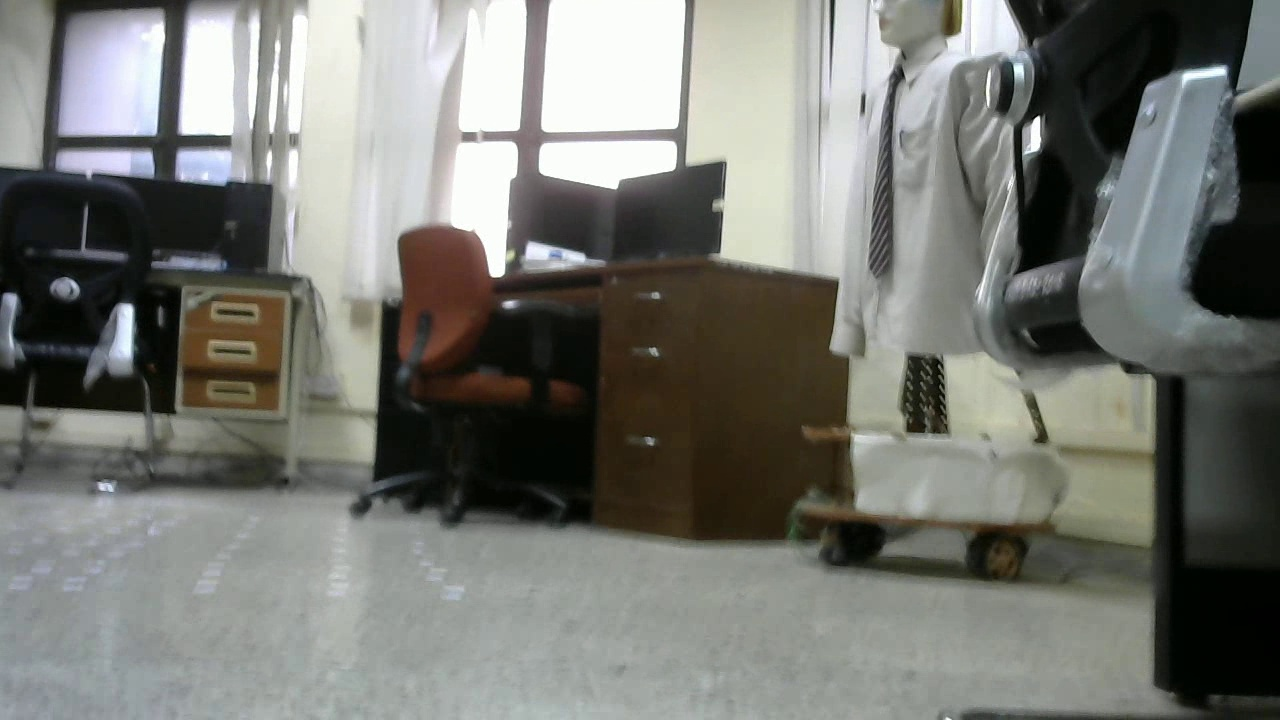chair: (343, 223, 588, 519), (1, 172, 164, 493)
